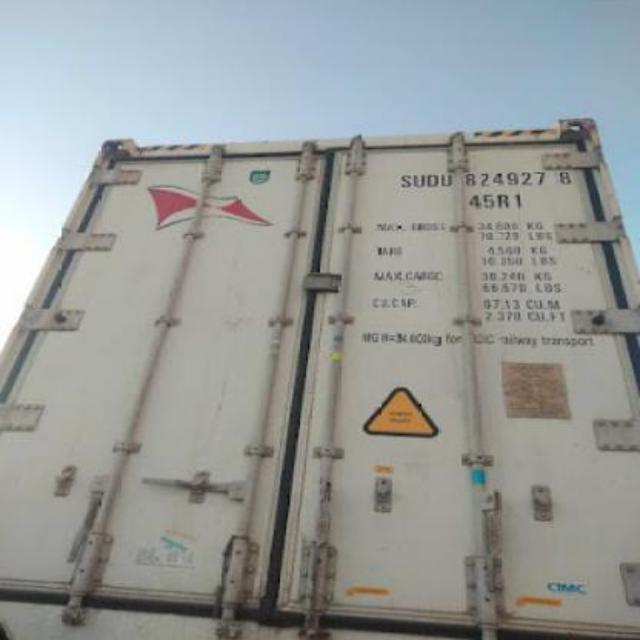2: (480, 172, 492, 188), (522, 172, 532, 185)
4: (494, 172, 506, 188)
7: (534, 172, 546, 186)
8: (464, 174, 478, 188), (558, 172, 572, 184)
9: (508, 172, 518, 188)
D: (426, 174, 439, 188)
S: (398, 176, 414, 188)
U: (441, 176, 454, 188), (414, 176, 426, 188)
